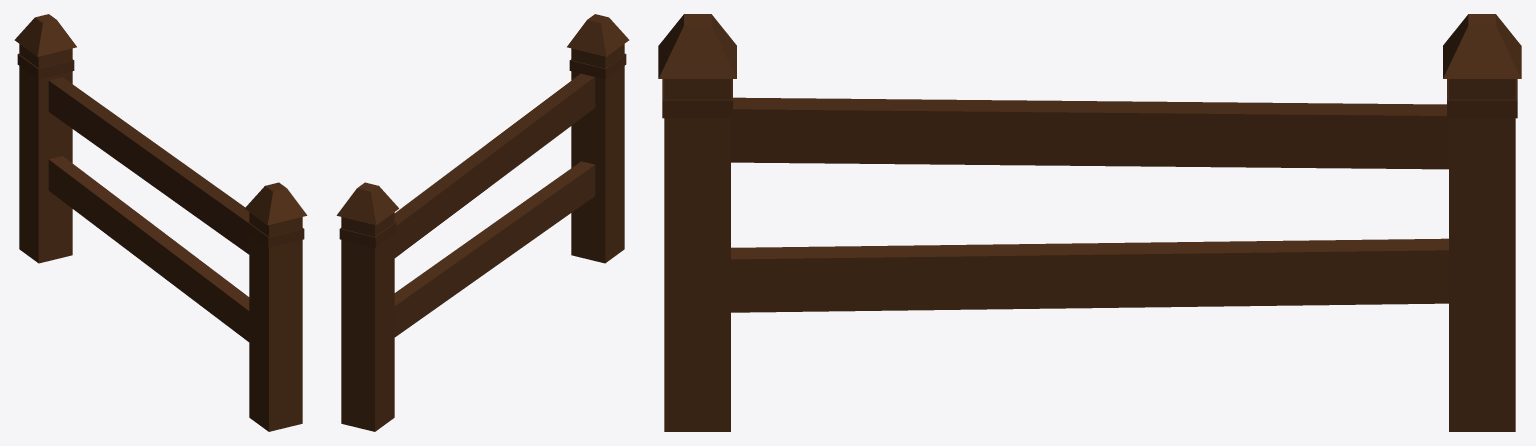
File: fence_rail.glb
The picture shows the model from 3 angles, left to right: view 1: azimuth 30°, elevation 25°; view 2: azimuth 150°, elevation 25°; view 3: azimuth 270°, elevation 25°; orthographic projection. The views are drawn at different scales.
Parts seen in each view (by area): view 1: fence_rail; view 2: fence_rail; view 3: fence_rail.
Boxes of the visible parts, box(x1,y1,x2,y2) form: fence_rail: box(14, 14, 307, 431); fence_rail: box(336, 14, 629, 431); fence_rail: box(658, 14, 1521, 431).
Bounding box in the file's own units: 0.2006 × 1.12 × 2.2.
